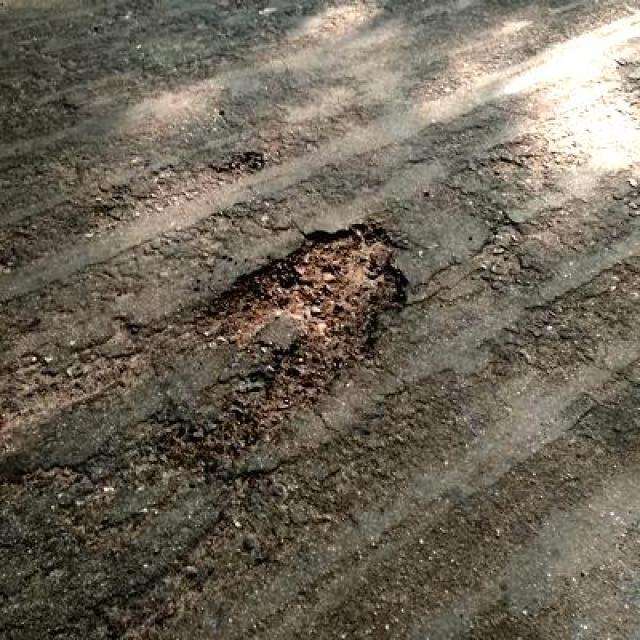pothole: (197, 217, 413, 433)
